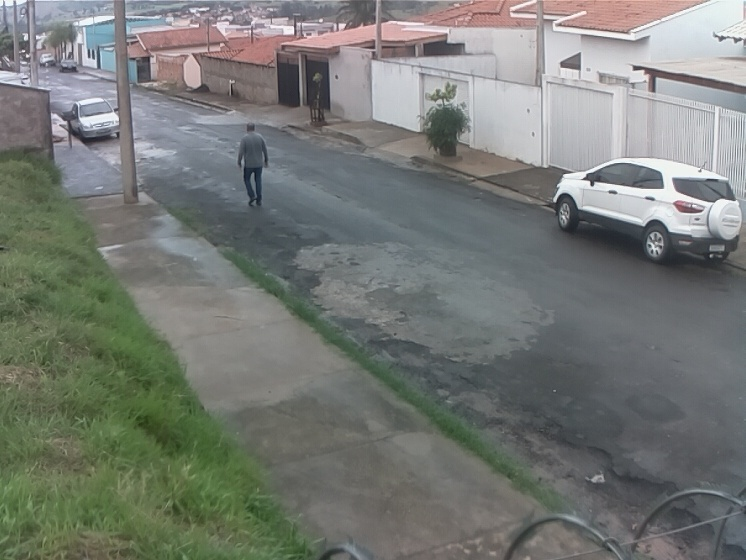person: (236, 121, 269, 208)
